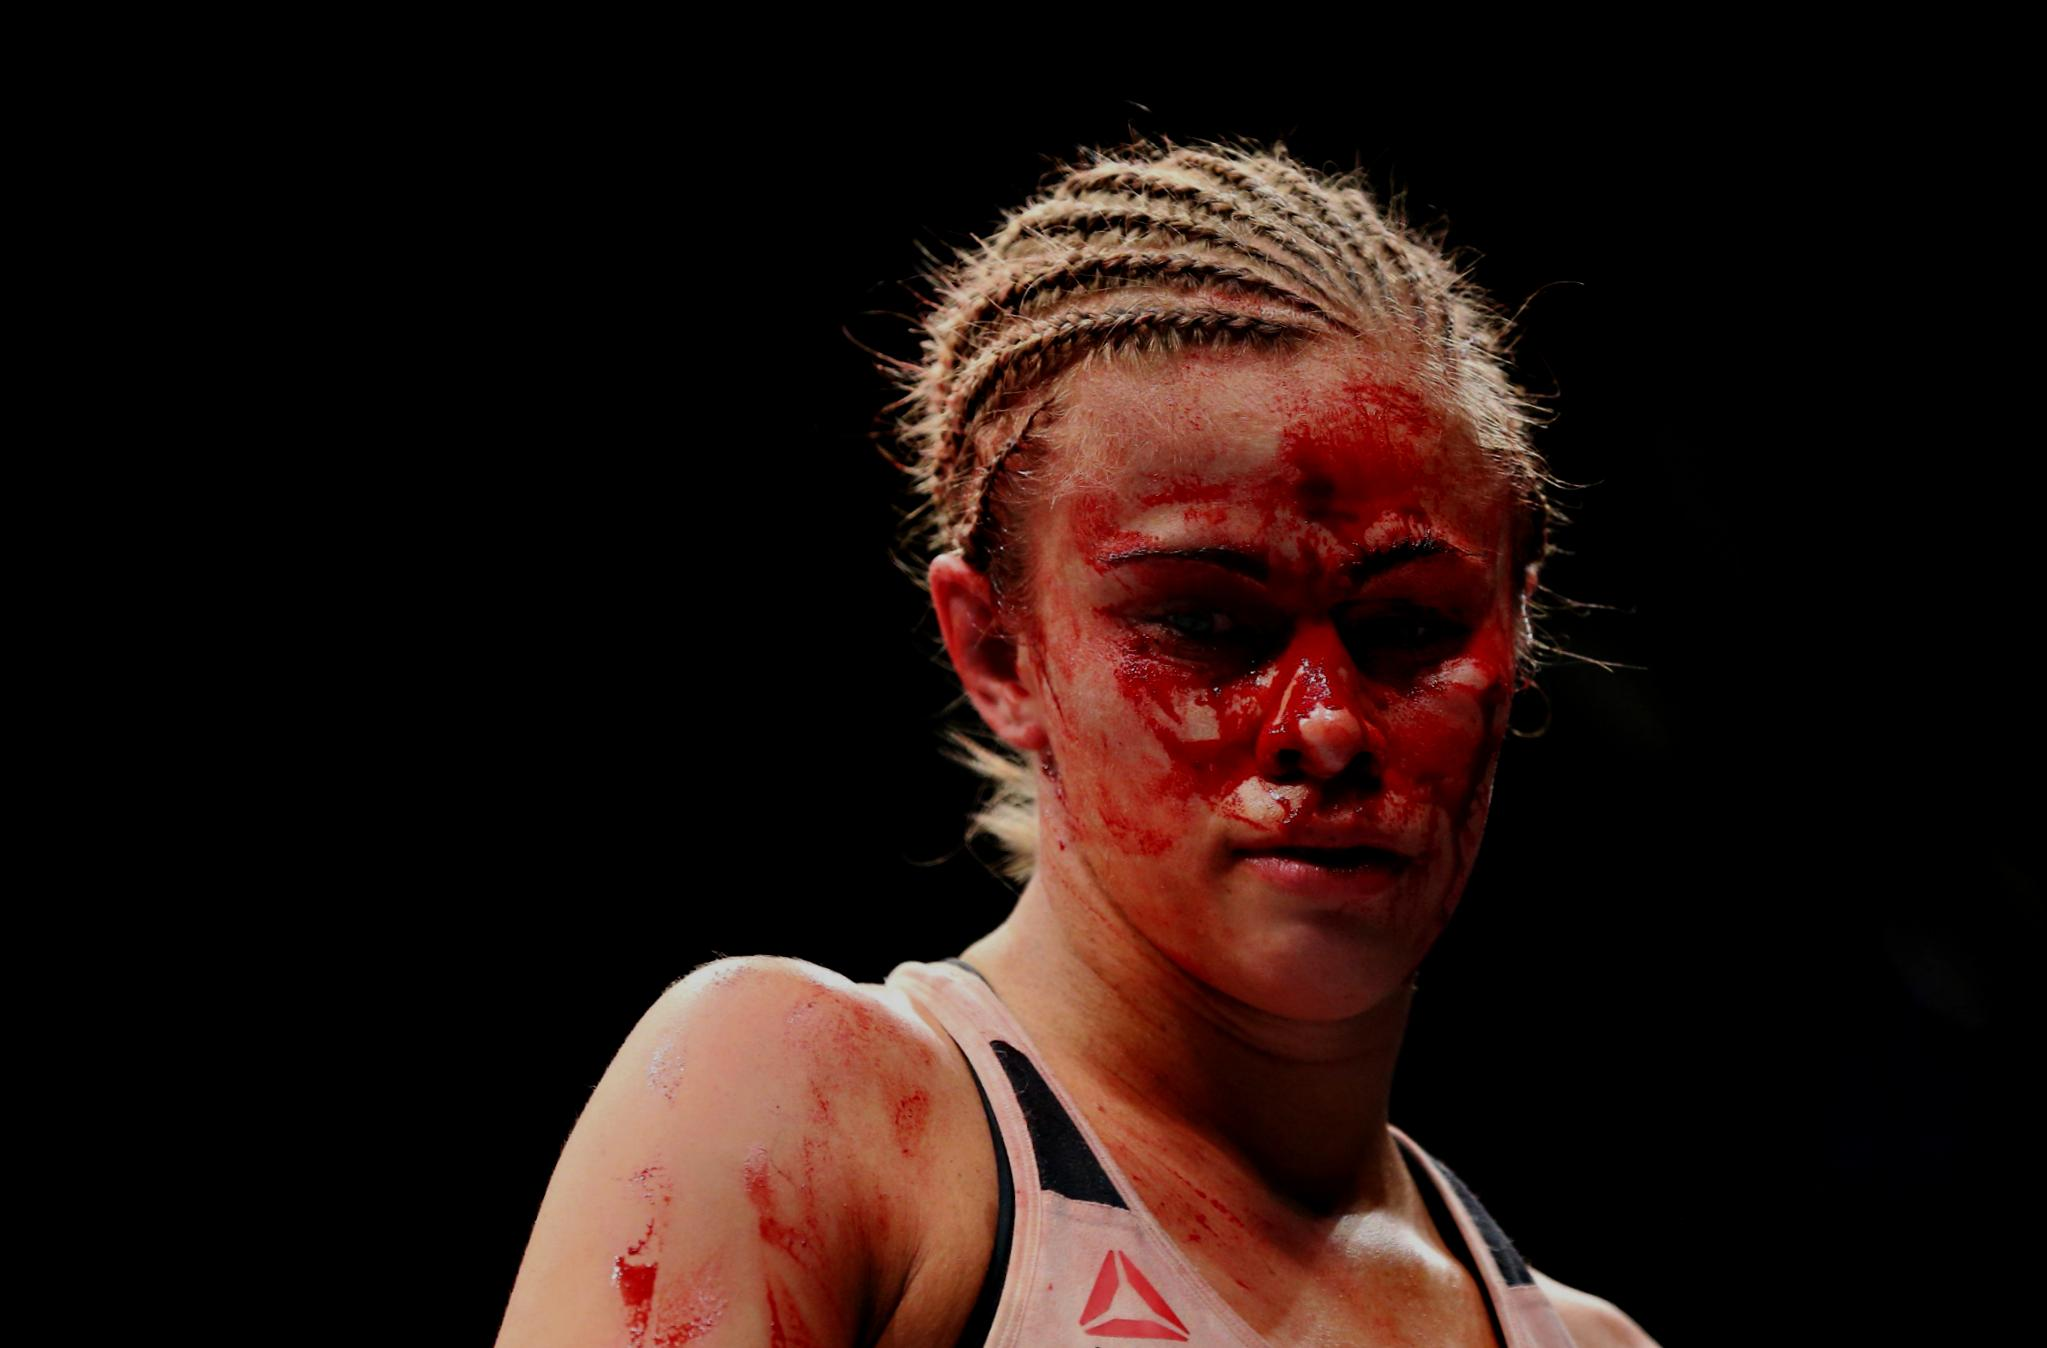Fire: (1060, 370, 1510, 937), (600, 976, 984, 1348), (1056, 1158, 1281, 1348)
